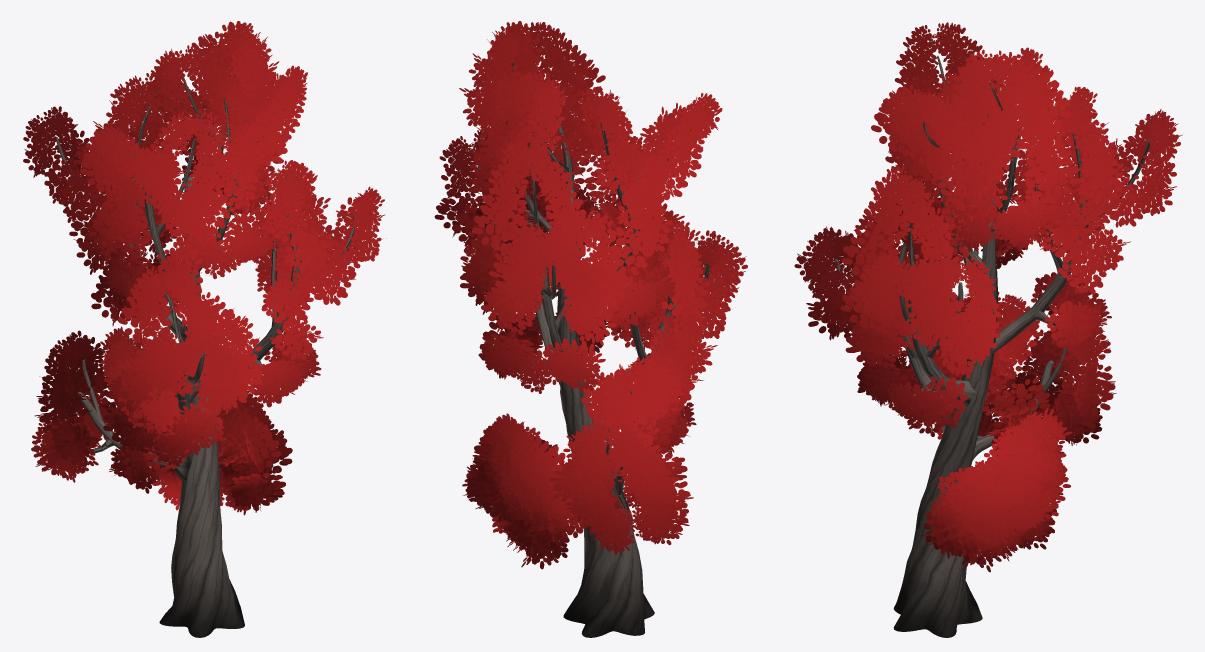
The model's file is TwistedTree_4.glb.
3 views of the same model, side by side, from view 1: azimuth 30°, elevation 25°; view 2: azimuth 150°, elevation 25°; view 3: azimuth 270°, elevation 25° (orthographic). The views are drawn at different scales.
Parts seen in each view (by area): view 1: TwistedTree_4; view 2: TwistedTree_4; view 3: TwistedTree_4.
Part boxes in pixels (bbox=[...]): TwistedTree_4: bbox=[23, 21, 384, 637]; TwistedTree_4: bbox=[434, 21, 747, 637]; TwistedTree_4: bbox=[794, 22, 1182, 637].
Bounding box in the file's own units: 10.38 × 18.74 × 11.29.
Materials: 2 (2 with a texture image).
